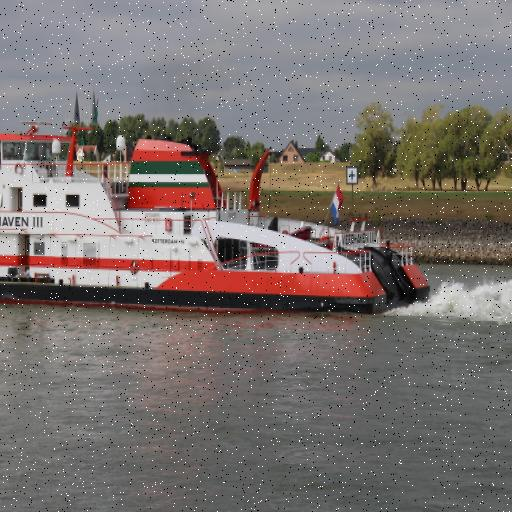tugboat: (1, 106, 435, 327)
